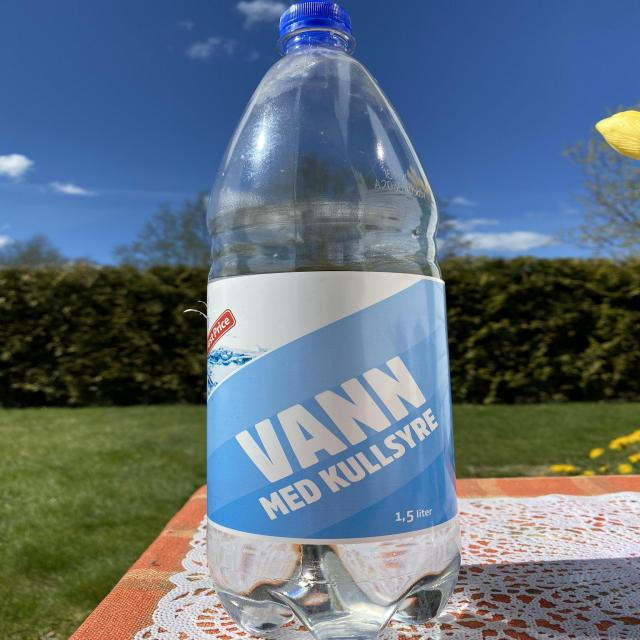bottle: (184, 0, 481, 640)
